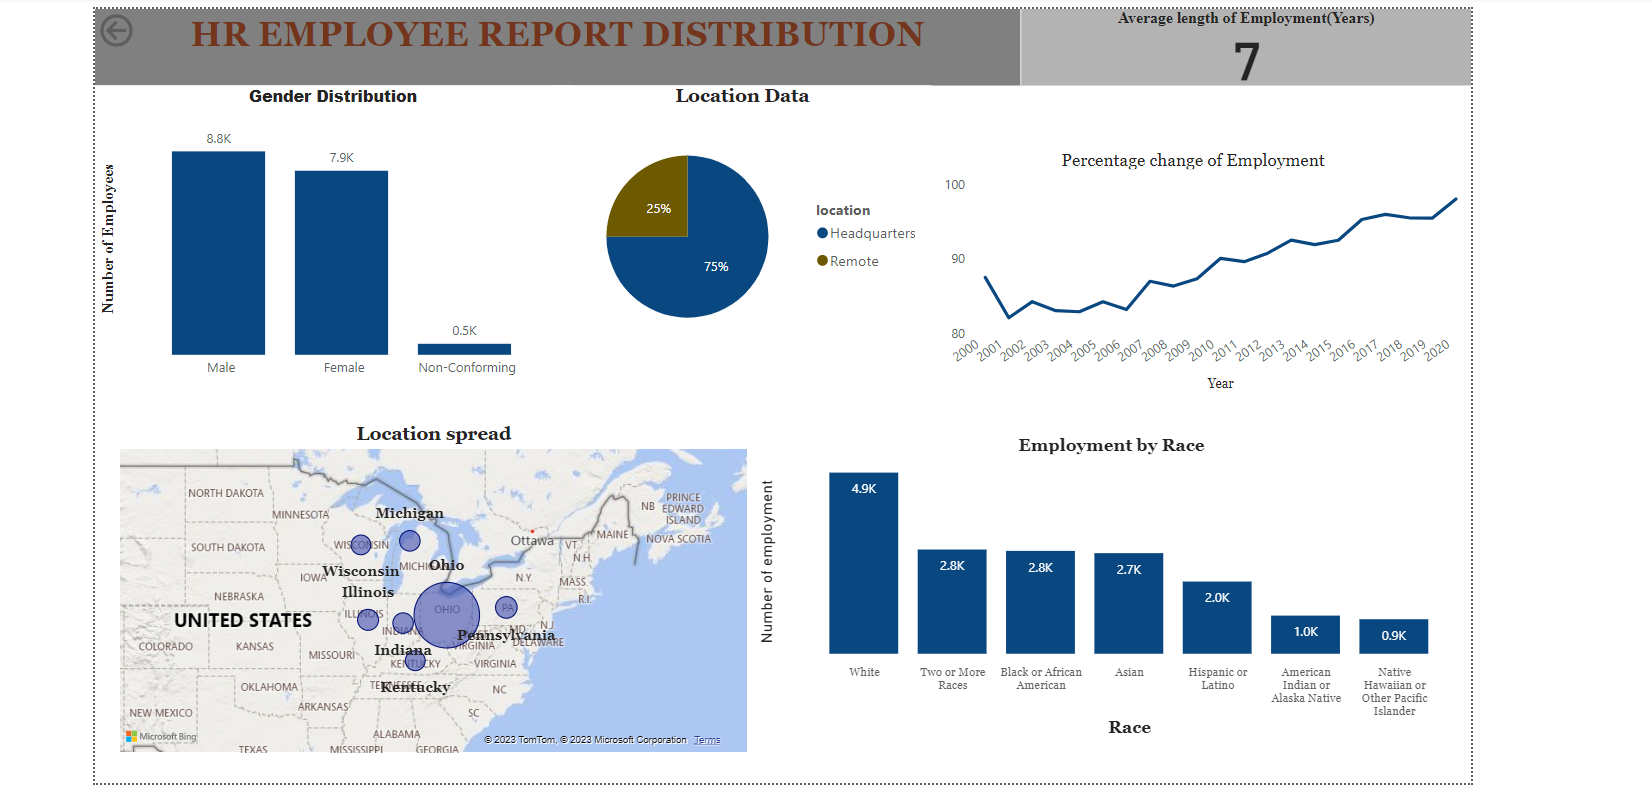

The dashboard page shown, as its layout file describes it:
{"tool":"powerbi","page":{"name":"Page 1","canvas":[1280,720],"ordinal":0},"visuals":[{"type":"textbox","box":[0,0,861.1,71.2],"z":0},{"type":"card","title":"Average length of Employment(Years)","fields":{"Values":["Sum(average_length_of_employment.average_termination_per_year)"]},"box":[861.1,0,418.5,71.2],"z":1000},{"type":"columnChart","title":"Gender Distribution","fields":{"Category":["gender.gender"],"Y":["Sum(gender.gender_count)"]},"box":[0,71.2,442.6,294.3],"z":2000},{"type":"pieChart","title":"Location Data","fields":{"Category":["location.location"],"Y":["Sum(location.total_based_location)"]},"box":[426.9,71.2,351,261.7],"z":3000},{"type":"lineChart","title":"Percentage change of Employment","fields":{"Category":["average_change.Year"],"Y":["Sum(average_change.percentage_change)"]},"box":[762.2,131.5,517.4,229.1],"z":3001},{"type":"actionButton","box":[0,0,100,40],"z":3002},{"type":"map","title":"Location spread","fields":{"Category":["location state.location_state"],"Size":["Sum(location state.count(*))"]},"box":[18.1,384.7,593.4,311.2],"z":3005},{"type":"columnChart","title":"Employment by Race","fields":{"Category":["Race.race"],"Y":["Sum(Race.Race.1)"]},"box":[611.5,396.8,668.1,284.6],"z":3006}]}

Visuals, with their boxes on the page's 1280x720 design canvas (x1, y1, x2, y2). These are canvas units, not pixel positions in the 1652x806 screenshot, which may show the page scaled, cropped or inside an application window:
textbox: BBox(0, 0, 861, 71)
"Average length of Employment(Years)" card: BBox(861, 0, 1280, 71)
"Gender Distribution" columnChart: BBox(0, 71, 443, 366)
"Location Data" pieChart: BBox(427, 71, 778, 333)
"Percentage change of Employment" lineChart: BBox(762, 132, 1280, 361)
actionButton: BBox(0, 0, 100, 40)
"Location spread" map: BBox(18, 385, 612, 696)
"Employment by Race" columnChart: BBox(612, 397, 1280, 681)
